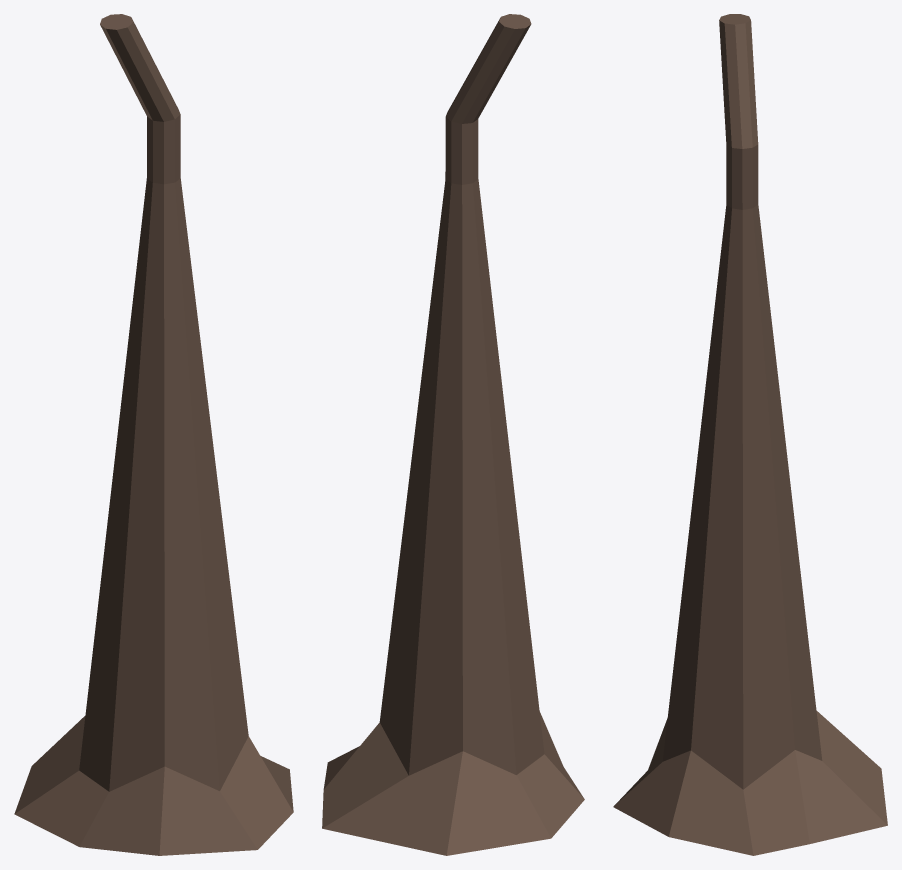
The model's file is PineTreeBase.fbx.
3 renders of one model, left to right at view 1: azimuth 30°, elevation 25°; view 2: azimuth 150°, elevation 25°; view 3: azimuth 270°, elevation 25°, orthographic. The views are drawn at different scales.
Visible parts, largest first — view 1: PineTreeBase; view 2: PineTreeBase; view 3: PineTreeBase.
Boxes of the visible parts, <box> form: PineTreeBase: <box>14,14,293,855</box>; PineTreeBase: <box>322,14,584,855</box>; PineTreeBase: <box>613,14,887,855</box>.
Bounding box in the file's own units: 2028 × 6142 × 2030.
